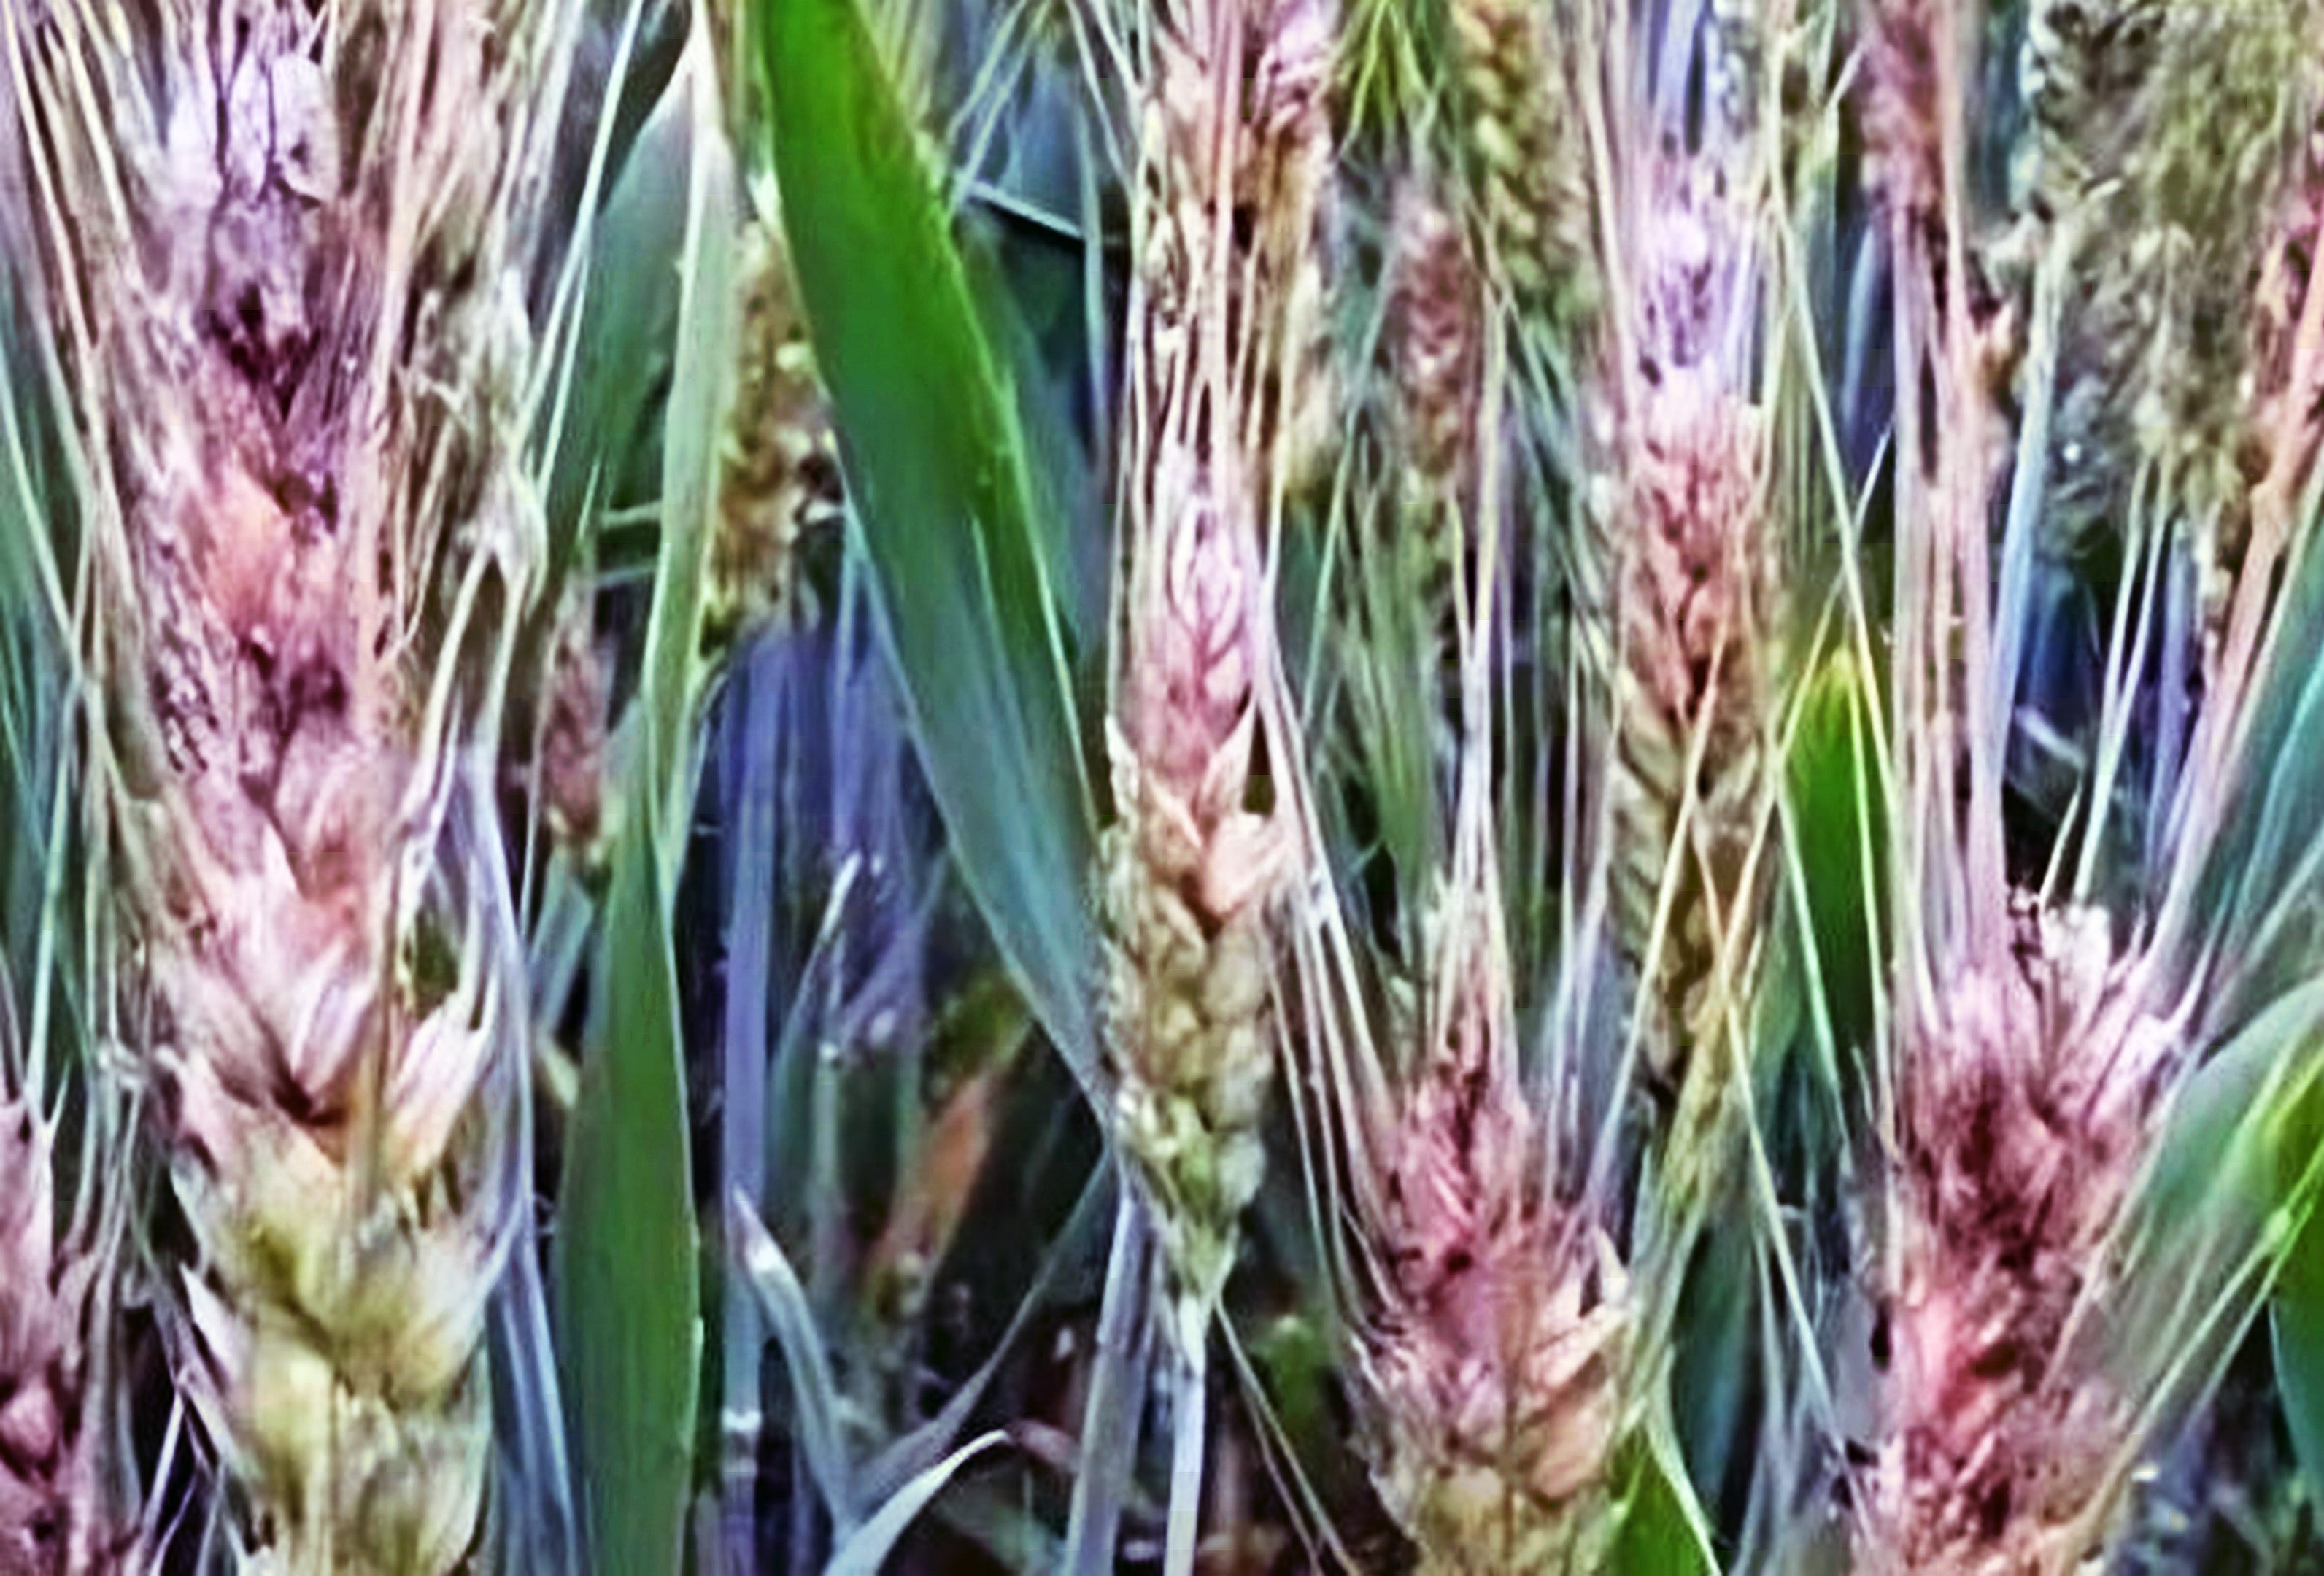Wheat scab: (1057, 450, 1335, 1293)
